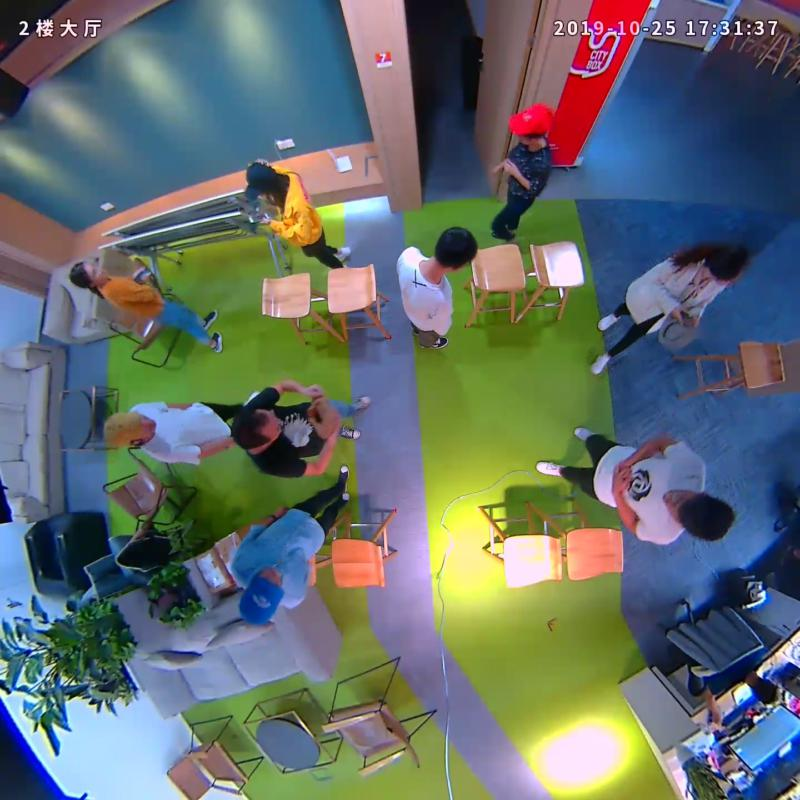head: (663, 489, 735, 542), (239, 567, 286, 626), (231, 404, 284, 450), (433, 226, 478, 273), (506, 102, 555, 144), (706, 242, 748, 288), (103, 411, 158, 446), (241, 160, 279, 202), (68, 258, 109, 290)
